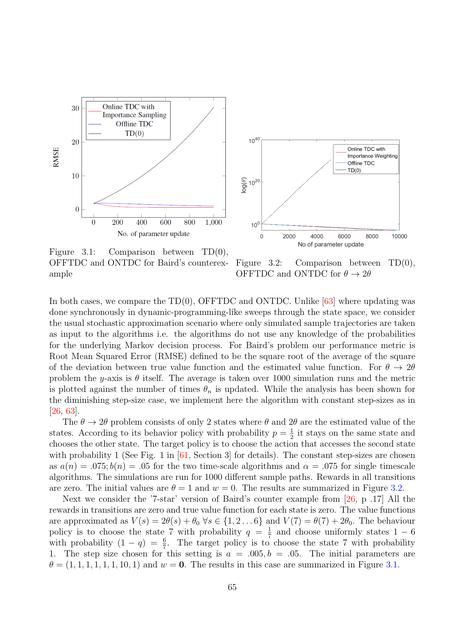box: (48, 93, 229, 240), (239, 134, 411, 250)
